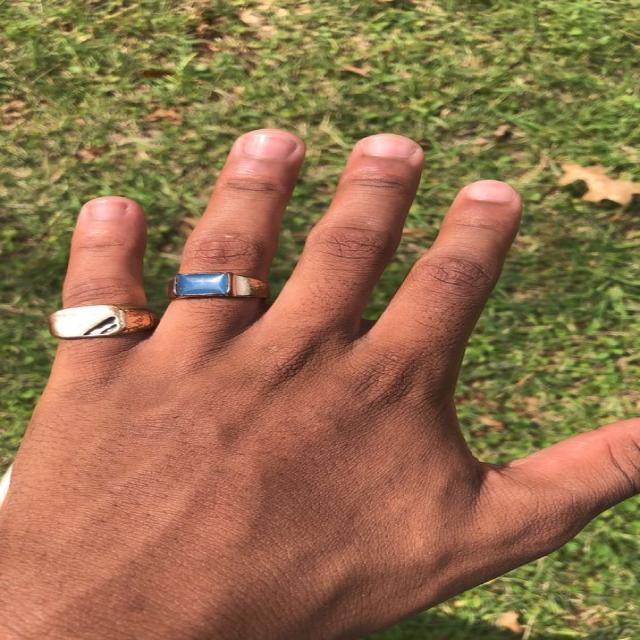Fingernail: (244, 132, 296, 160), (363, 137, 416, 159), (466, 182, 514, 202), (88, 201, 127, 222)
